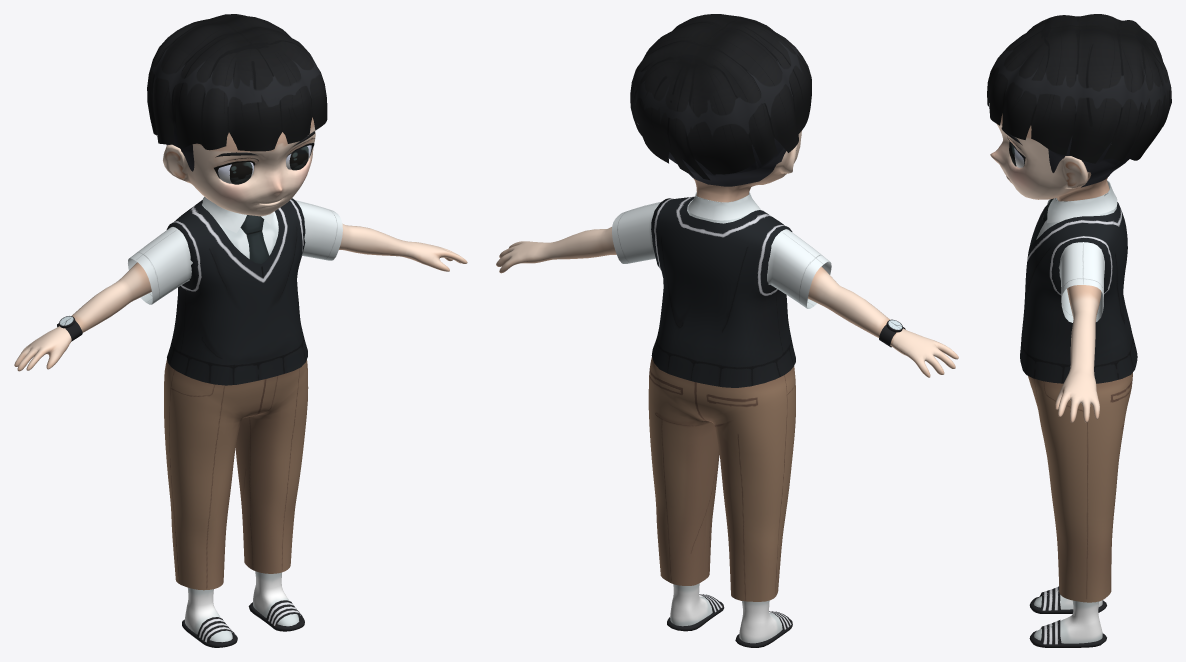
The model's file is middle.fbx.
3 views of the same model, side by side, from view 1: azimuth 30°, elevation 25°; view 2: azimuth 150°, elevation 25°; view 3: azimuth 270°, elevation 25° (orthographic). The views are drawn at different scales.
Visible parts, largest first — view 1: clothes_middle, hair_middle, body_middle; view 2: clothes_middle, hair_middle, body_middle; view 3: clothes_middle, hair_middle, body_middle.
Part boxes in pixels (x1,y1,x2,y2): clothes_middle: (57, 197, 342, 647); hair_middle: (147, 14, 327, 171); body_middle: (14, 117, 467, 642); clothes_middle: (612, 192, 905, 647); hair_middle: (630, 14, 811, 186); body_middle: (496, 131, 958, 643); clothes_middle: (1020, 180, 1137, 647); hair_middle: (987, 14, 1171, 187); body_middle: (990, 113, 1109, 643).
Size of the model in its own units: 105 by 132 by 36.99.
3 materials, 3 textured.
